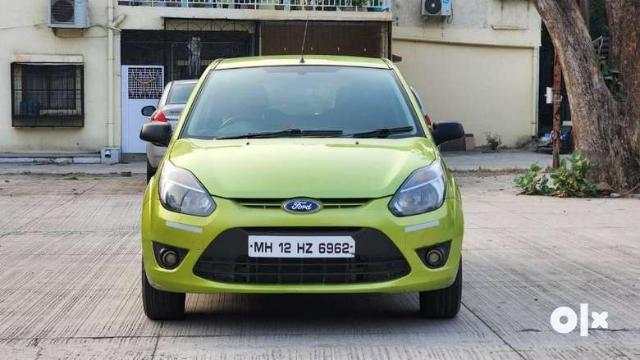Indian_Number_Plate: (248, 234, 356, 258)
